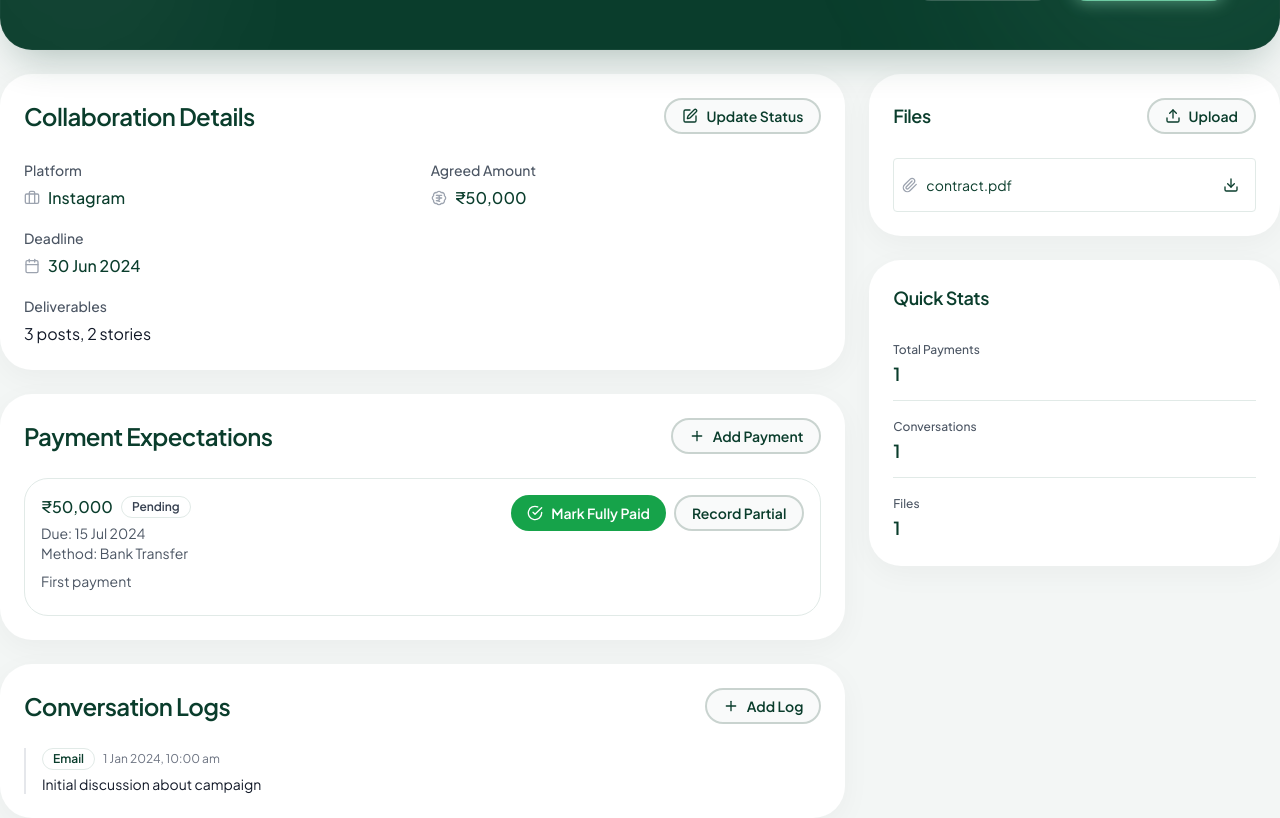
CollaborationDetailPage › Conversation Logs › should validate conversation message
The width and height of the screenshot is (1280, 818).
(page scrolled)
Click the button "Add Log".
click(763, 706)  # box [705,688,821,724]
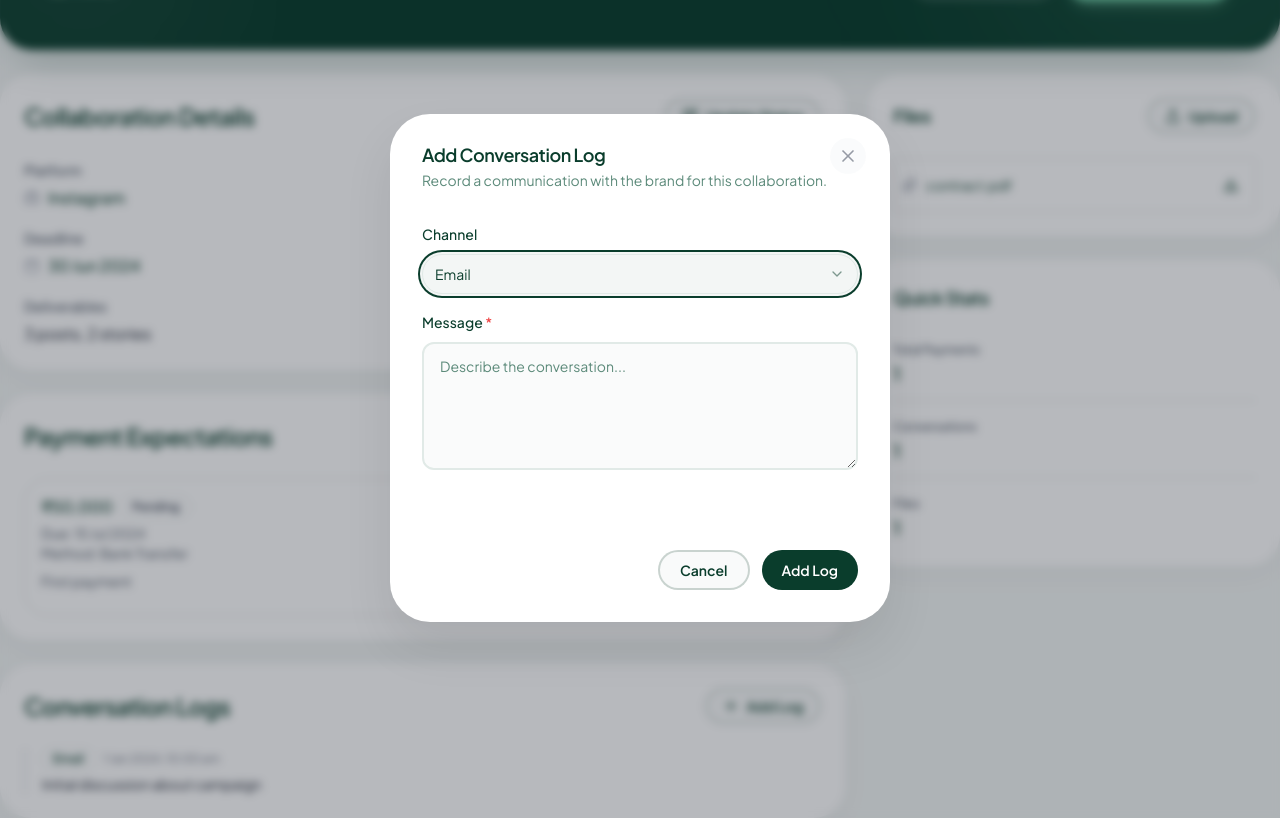
Click the button "Add Log".
click(810, 570)  # box [762,550,858,590]
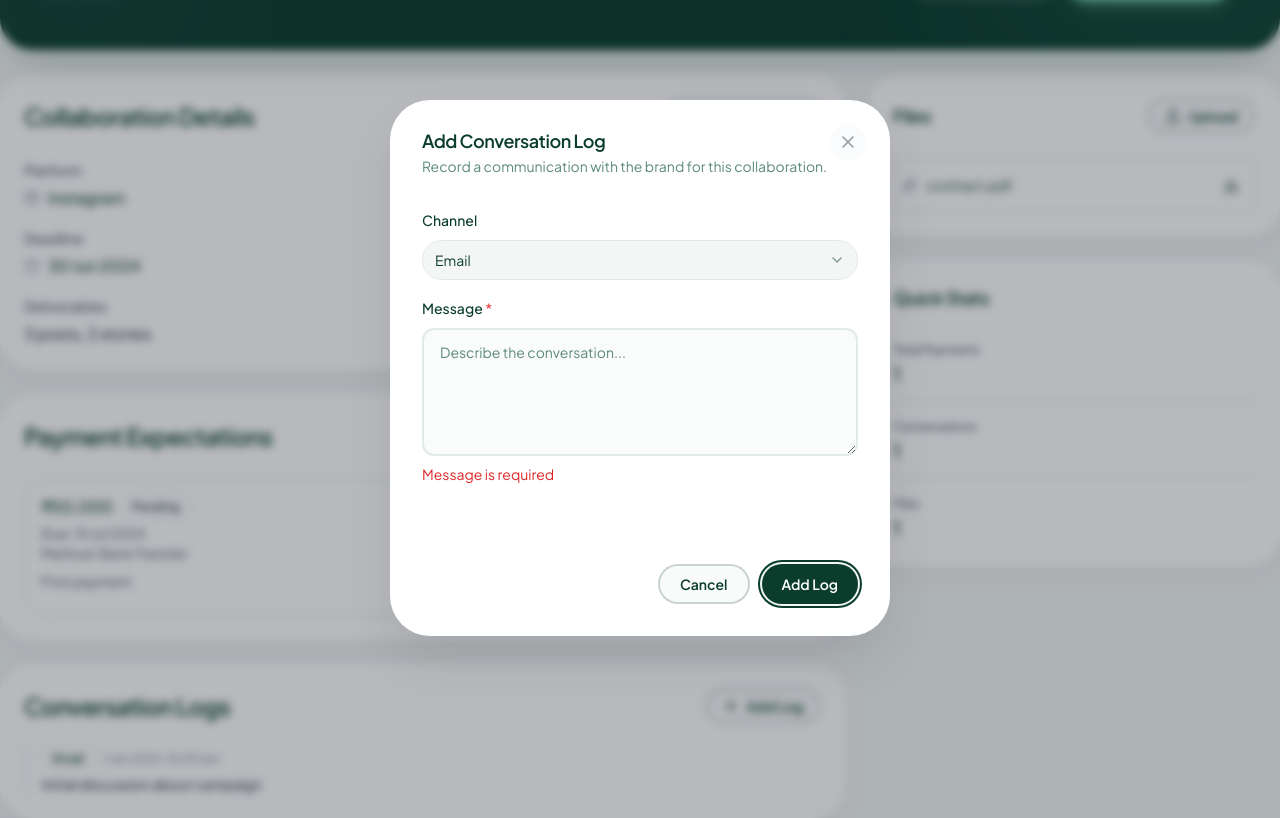
Check: the text "Message is required" is shown, box [422,465,554,483]
